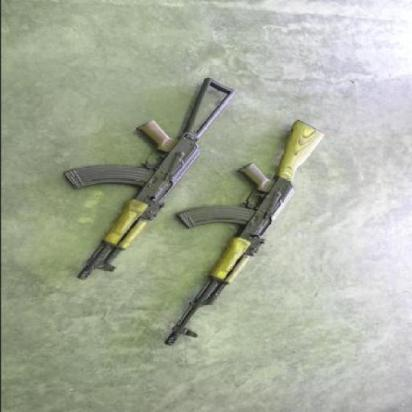Gun: (164, 119, 328, 346), (59, 76, 236, 280)
